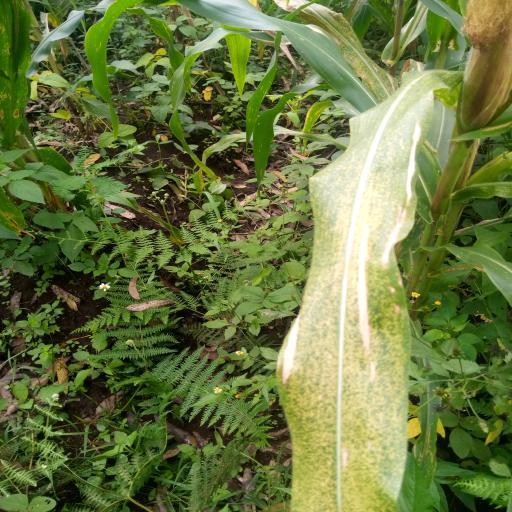Corn_Brown_Spots: (286, 73, 421, 512)
